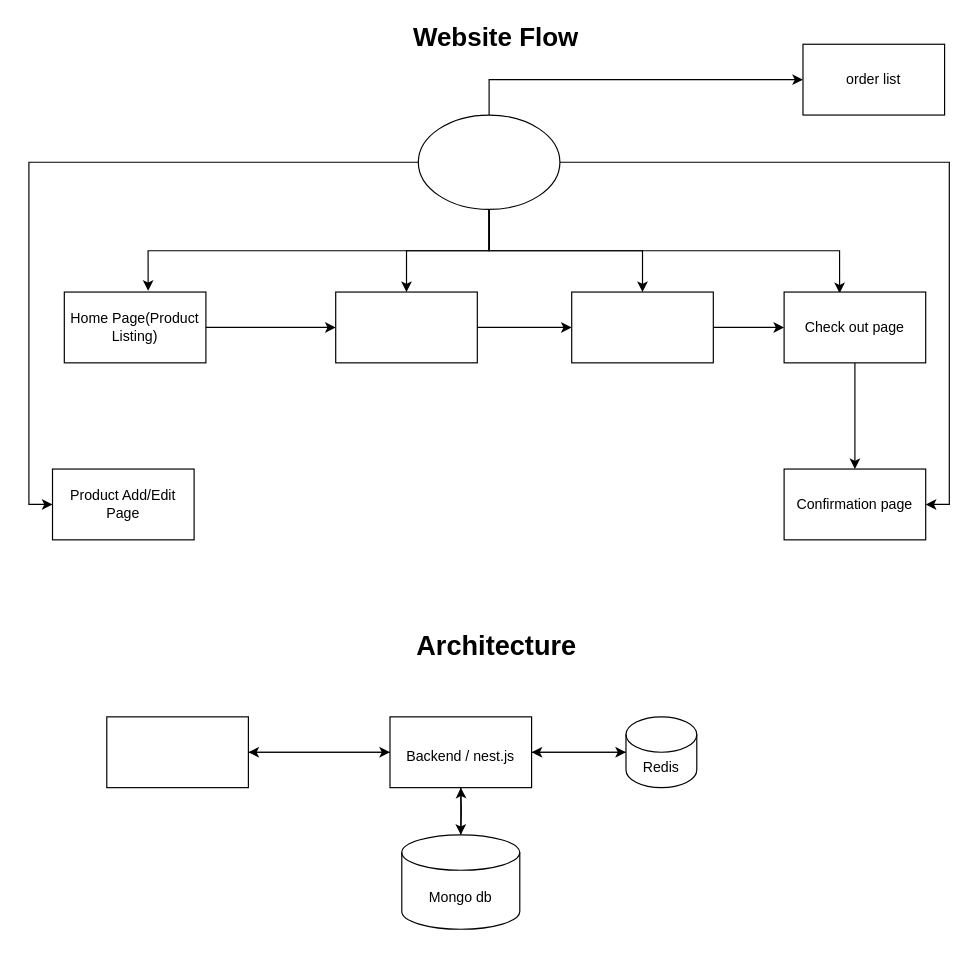
Some shapes in this 979 by 959 pixel diagram are drawn without their labels. Here are the shapes that lost their labels. From the top down, the centre of each, then its label:
At pixel 488 161: "Login/Sign up".
At pixel 406 327: "Product detail page".
At pixel 642 327: "Card Page".
At pixel 177 752: "Frontend / Next.js".
